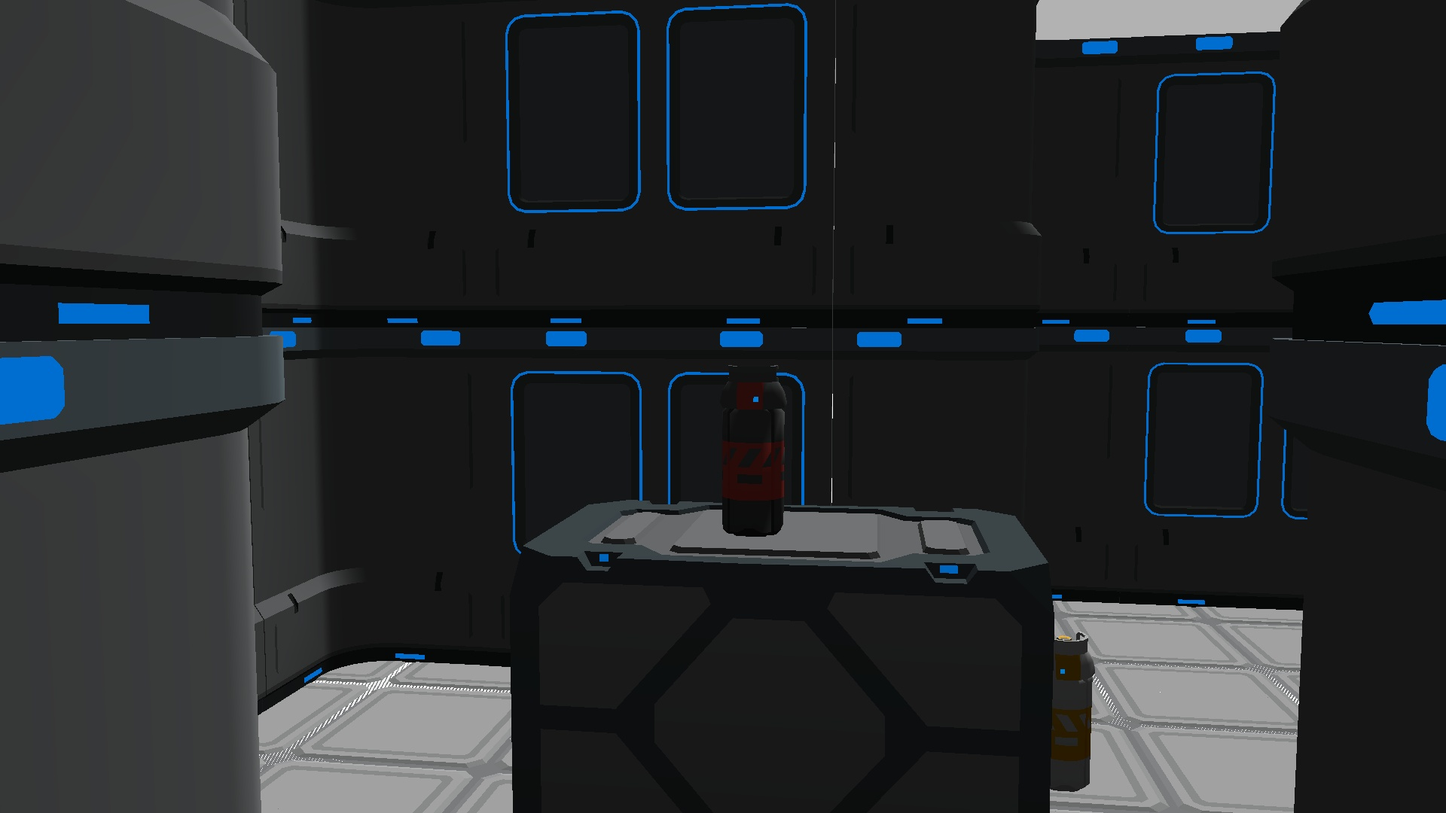red barrel: (722, 364, 785, 538)
yellow barrel: (1049, 631, 1095, 792)
